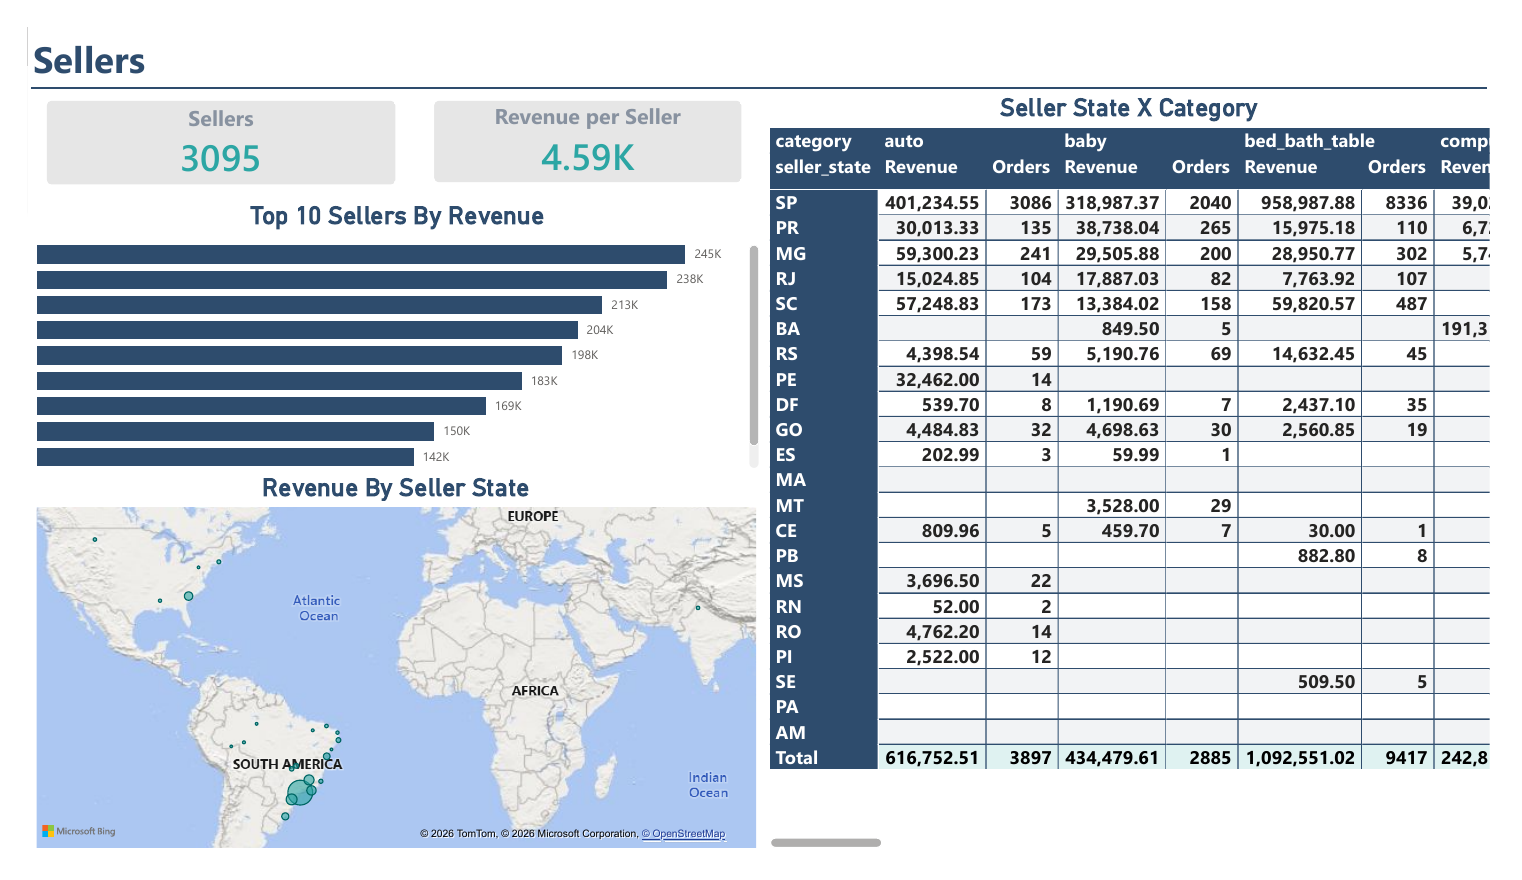

What the dashboard file says about the page in this screenshot:
{"tool":"powerbi","page":{"name":"Sellers","canvas":[1280,720],"ordinal":7},"visuals":[{"type":"shape","box":[3.2,47,1271.1,11.3],"z":0},{"type":"textbox","box":[0,0,1280.8,53.4],"z":1000},{"type":"cardVisual","title":"Total Sellers","fields":{"Data":["public bi_fact_sales.Sellers"]},"box":[0,47,338.4,106.9],"z":2000},{"type":"cardVisual","title":"Revenue Per Seller","fields":{"Data":["public bi_fact_sales.Revenue per Seller"]},"box":[338.4,47,301.2,105.2],"z":3000},{"type":"barChart","title":"Top 10 Sellers By Revenue","fields":{"Y":["public bi_fact_sales.Revenue"],"Category":["public bi_fact_sales.seller_id"]},"box":[3.2,152.2,639.6,236.4],"z":4000},{"type":"map","title":"Revenue By Seller State","fields":{"Category":["public bi_fact_sales.seller_state"],"Size":["public bi_fact_sales.Revenue"]},"box":[3.2,388.6,638,331.9],"z":5000},{"type":"pivotTable","title":"Seller State X Category","fields":{"Values":["public bi_fact_sales.Revenue","public bi_fact_sales.Orders"],"Columns":["public bi_fact_sales.category"],"Rows":["public bi_fact_sales.seller_state"]},"box":[642.8,58.3,638,662.3],"z":6000}]}

Visuals, with their boxes in screenshot pixels (x1, y1, x2, y2), scaled from the page's 1280x720 canvas onto the 1522x880 screenshot:
shape: 4,57,1515,71
textbox: 0,0,1521,65
"Total Sellers" cardVisual: 0,57,402,188
"Revenue Per Seller" cardVisual: 402,57,761,186
"Top 10 Sellers By Revenue" barChart: 4,186,764,475
"Revenue By Seller State" map: 4,475,762,879
"Seller State X Category" pivotTable: 764,71,1521,879
